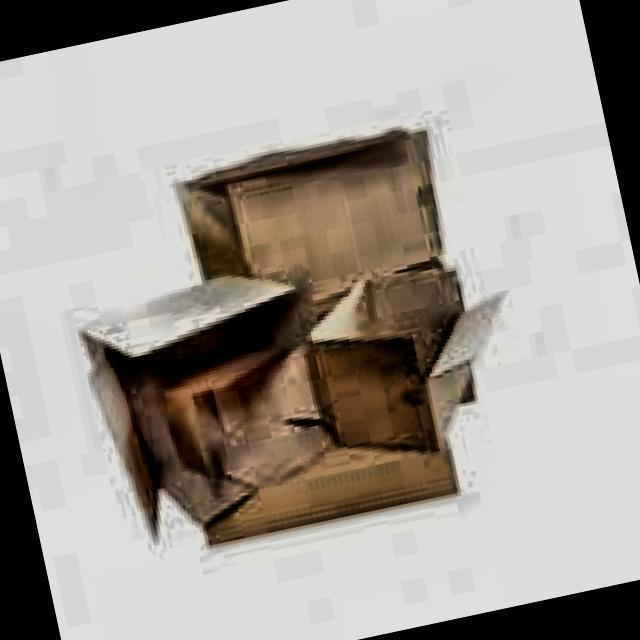cardboard: (45, 106, 542, 564)
